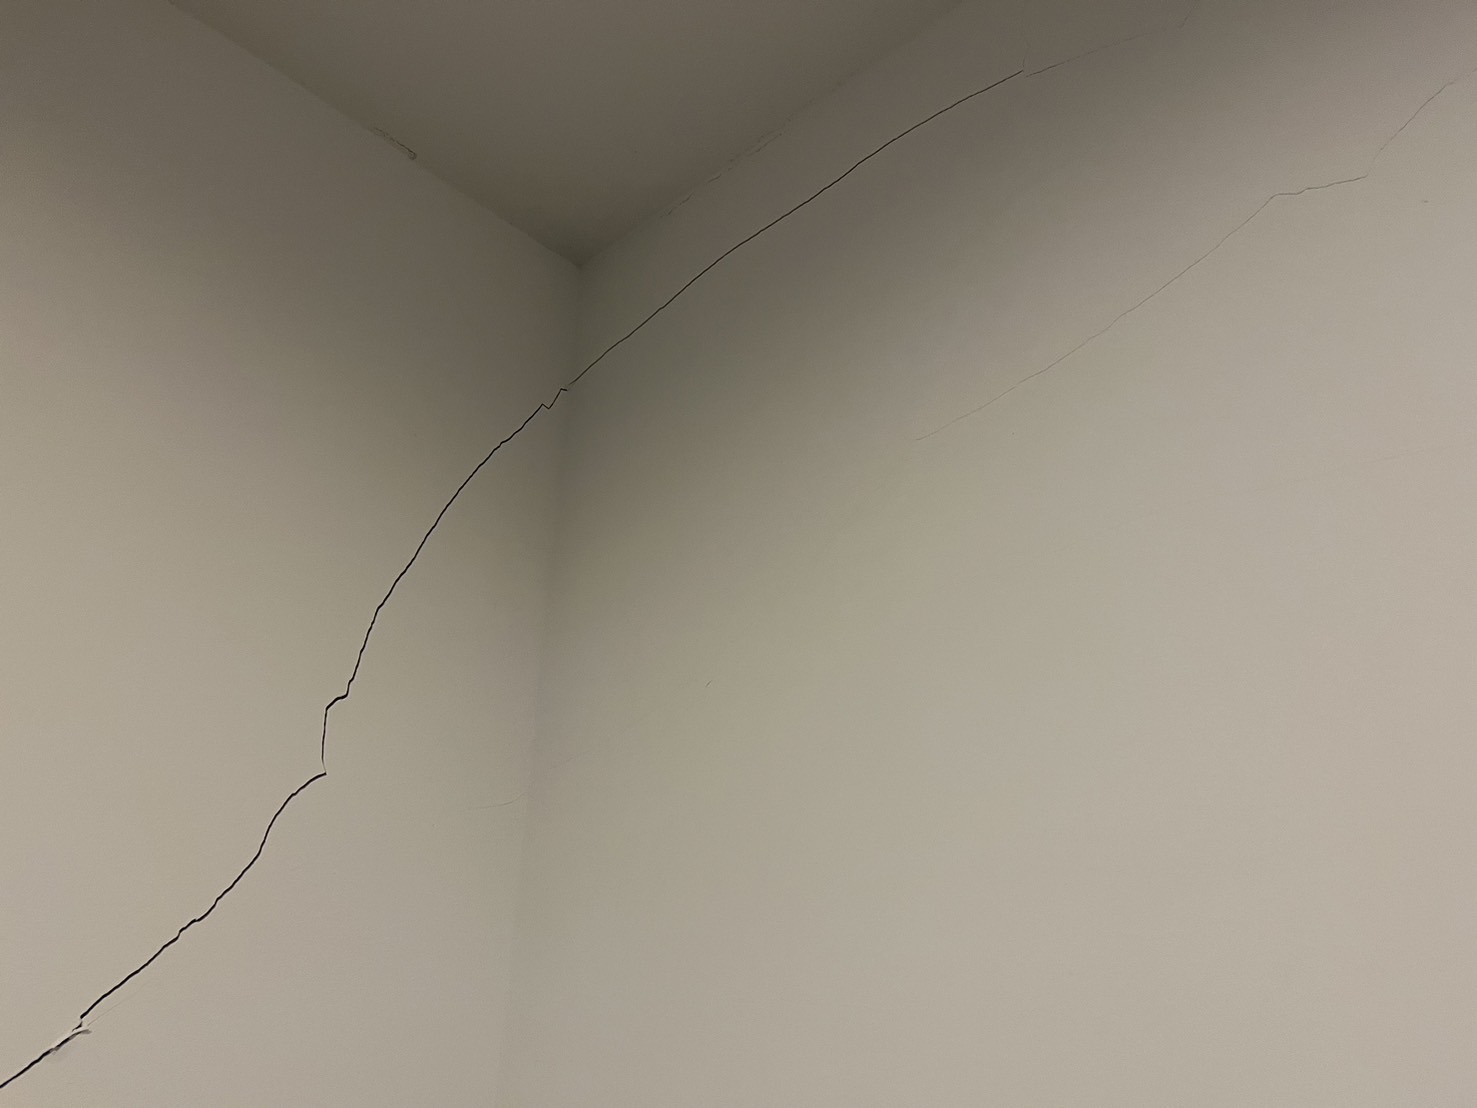Low: (2, 51, 1067, 1091)
